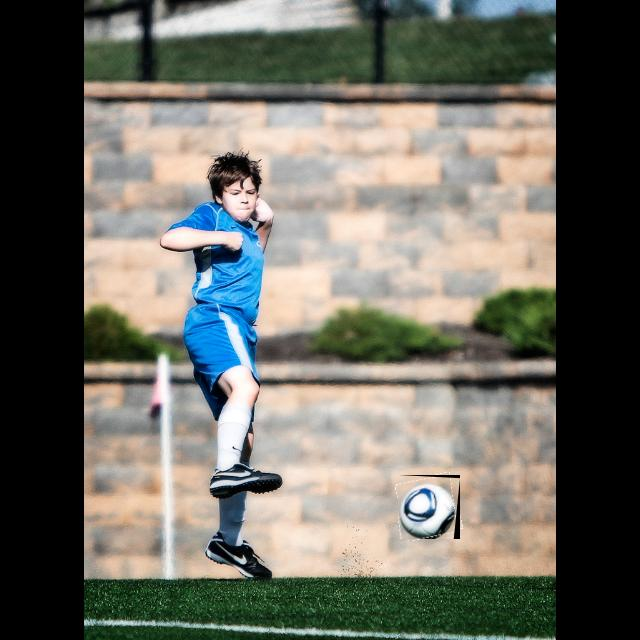Football: (398, 475, 460, 539)
